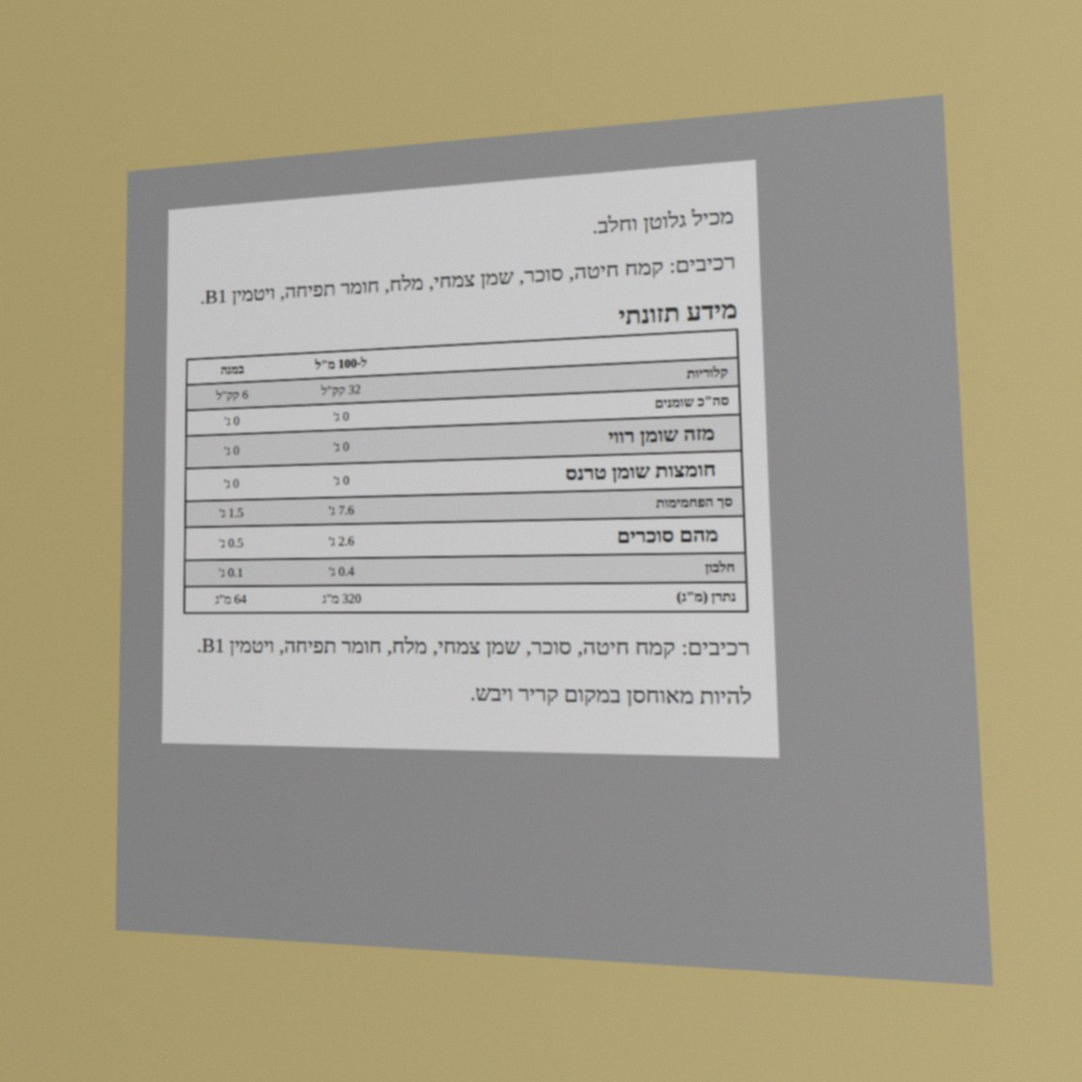carbs: (327, 502, 356, 519)
energy: (319, 381, 363, 399)
fat: (331, 408, 351, 425)
protein: (327, 563, 356, 580)
